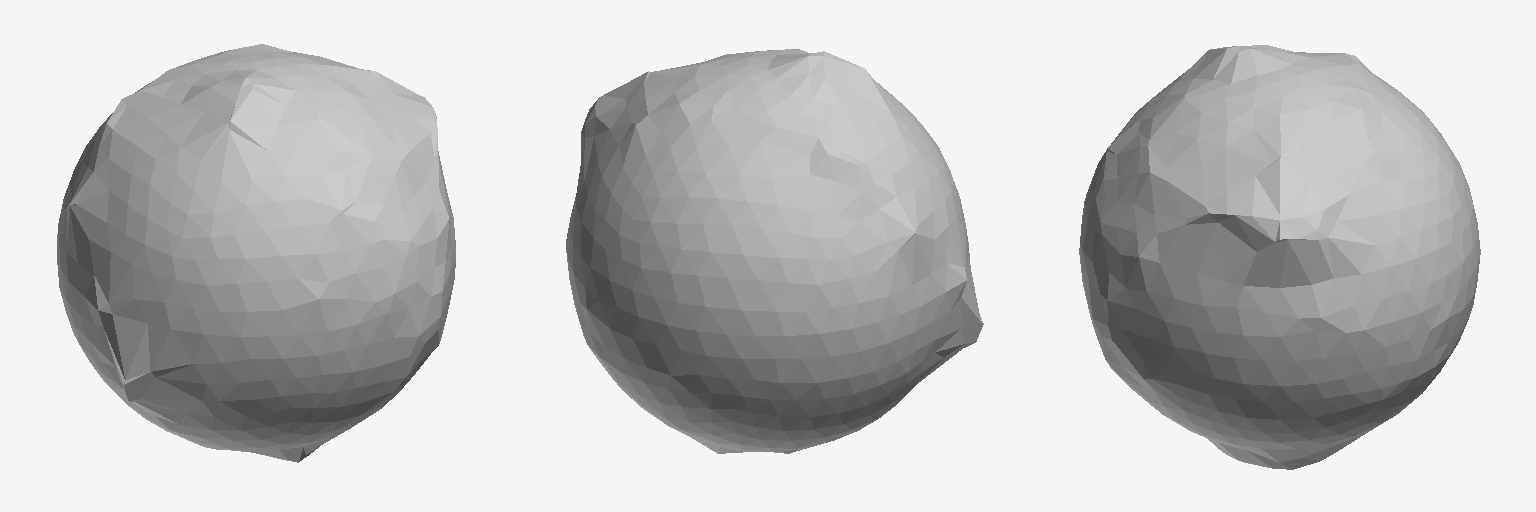
File: topoEarth-shrinkWrapped.obj
The picture shows the model from 3 angles: view 1: azimuth 30°, elevation 25°; view 2: azimuth 150°, elevation 25°; view 3: azimuth 270°, elevation 25°; orthographic projection.
Visible parts, largest first — view 1: Icosphere_Icosphere.001; view 2: Icosphere_Icosphere.001; view 3: Icosphere_Icosphere.001.
Boxes of the visible parts, <box> form: Icosphere_Icosphere.001: <box>57,44,455,462</box>; Icosphere_Icosphere.001: <box>566,49,983,453</box>; Icosphere_Icosphere.001: <box>1079,45,1480,469</box>.
Size of the model in its own units: 238 by 248 by 232.